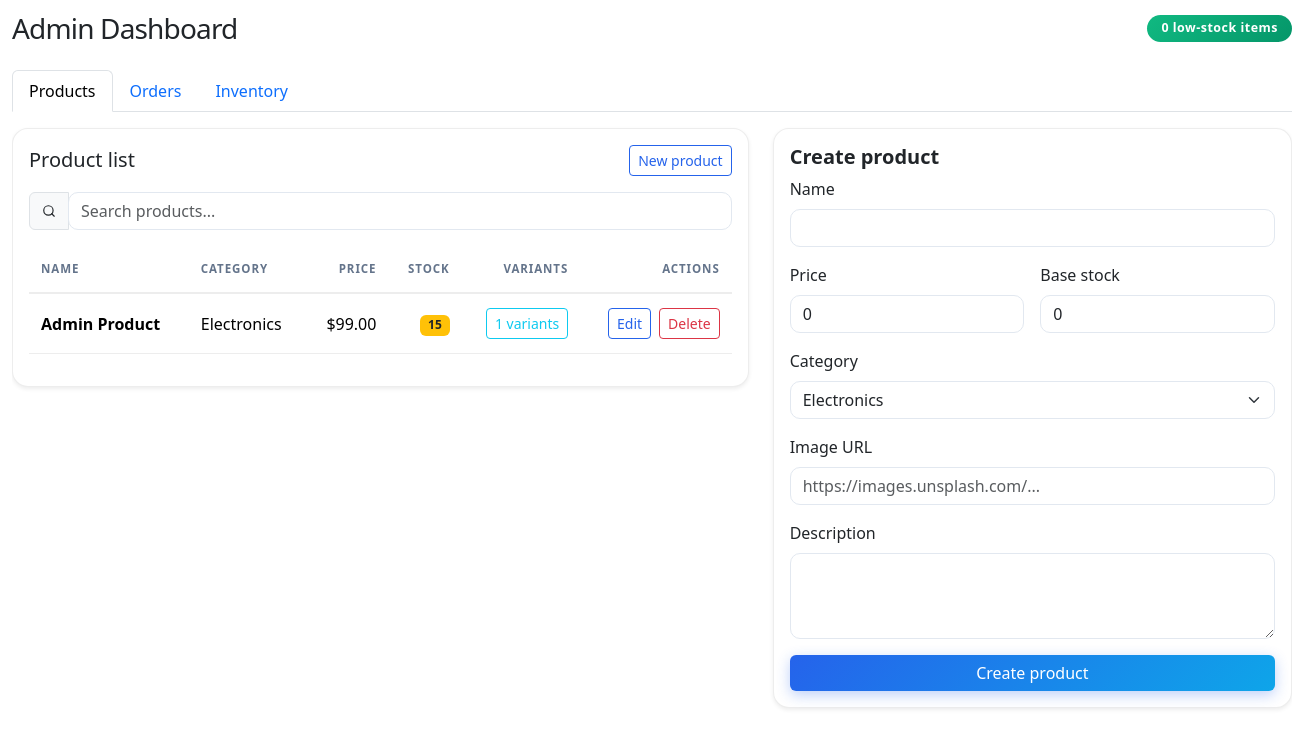
Scenario: AdminDashboardPage › inventory tab shows variant count column
This screenshot has width=1292, height=732.
Click the tab "Inventory" at (252, 91), box [198, 70, 305, 112]
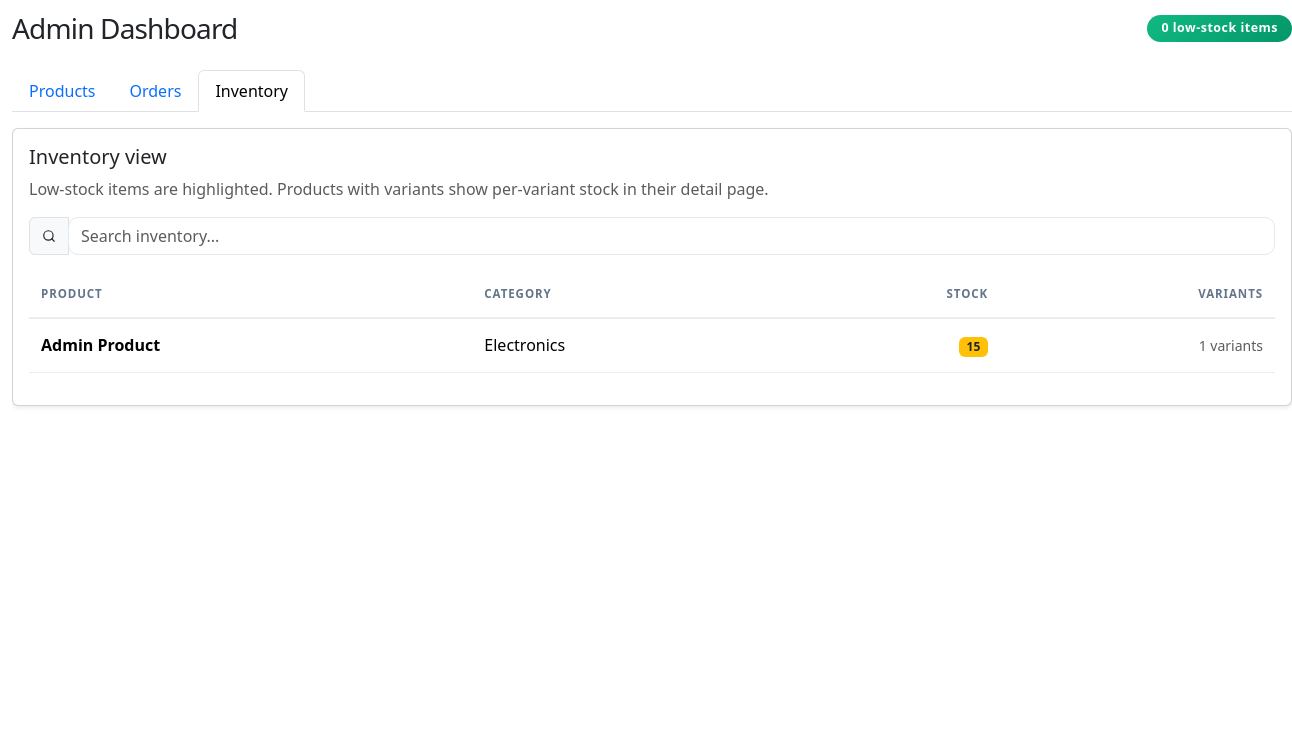
Expected: the text "1 variants" is shown, [1000, 318, 1275, 372]
Expected: the table named "inventory table" is shown, [29, 271, 1275, 373]
